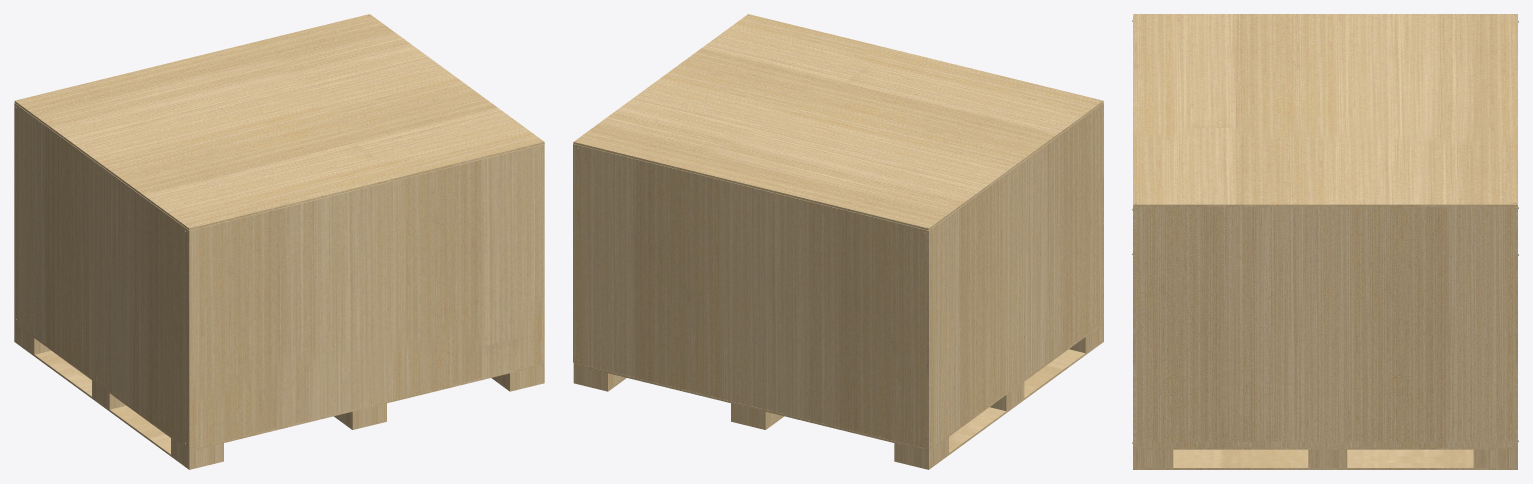
File: ChongDianZhuang.fbx
The picture shows the model from 3 angles, left to right: view 1: azimuth 30°, elevation 25°; view 2: azimuth 150°, elevation 25°; view 3: azimuth 270°, elevation 25°; orthographic projection. The views are drawn at different scales.
Parts seen in each view (by area): view 1: polySurface388, polySurface387, polySurface389, polySurface402, polySurface385, polySurface393, polySurface417, polySurface413; view 2: polySurface386, polySurface387, polySurface389, polySurface402, polySurface385, polySurface391, polySurface419, polySurface415; view 3: polySurface390, polySurface387, polySurface416, polySurface385, polySurface388, polySurface419, polySurface417, polySurface418, polySurface386.
Boxes of the visible parts, left/top/right/bottom form: polySurface388: left=188, top=144, right=544, bottom=449; polySurface387: left=14, top=14, right=544, bottom=230; polySurface389: left=14, top=102, right=188, bottom=448; polySurface402: left=14, top=340, right=223, bottom=469; polySurface385: left=14, top=322, right=544, bottom=451; polySurface393: left=171, top=438, right=223, bottom=467; polySurface417: left=493, top=365, right=544, bottom=389; polySurface413: left=336, top=403, right=386, bottom=428; polySurface386: left=573, top=144, right=926, bottom=448; polySurface387: left=573, top=14, right=1103, bottom=230; polySurface389: left=927, top=103, right=1102, bottom=449; polySurface402: left=894, top=340, right=1103, bottom=469; polySurface385: left=573, top=321, right=1103, bottom=451; polySurface391: left=894, top=437, right=948, bottom=467; polySurface419: left=573, top=365, right=624, bottom=389; polySurface415: left=731, top=403, right=781, bottom=428; polySurface390: left=1135, top=207, right=1515, bottom=447; polySurface387: left=1133, top=14, right=1517, bottom=206; polySurface416: left=1133, top=449, right=1517, bottom=469; polySurface385: left=1133, top=447, right=1517, bottom=449; polySurface388: left=1133, top=16, right=1135, bottom=447; polySurface419: left=1473, top=449, right=1517, bottom=467; polySurface417: left=1133, top=449, right=1173, bottom=467; polySurface418: left=1308, top=449, right=1347, bottom=467; polySurface386: left=1515, top=207, right=1517, bottom=447.
Bounding box in the file's own units: 194 × 126 × 166.
6 materials, 5 textured.
